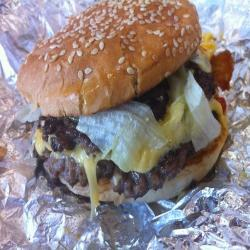burger: (20, 1, 230, 205)
salad: (84, 102, 220, 158)
